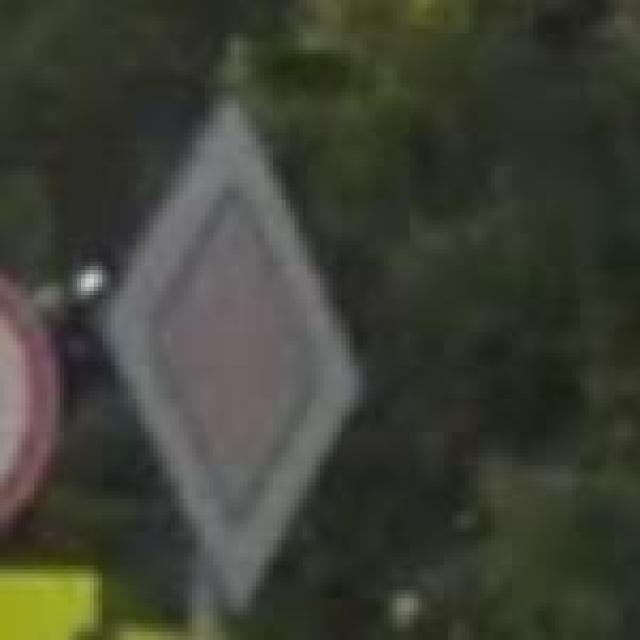Priority road: (90, 91, 376, 620)
